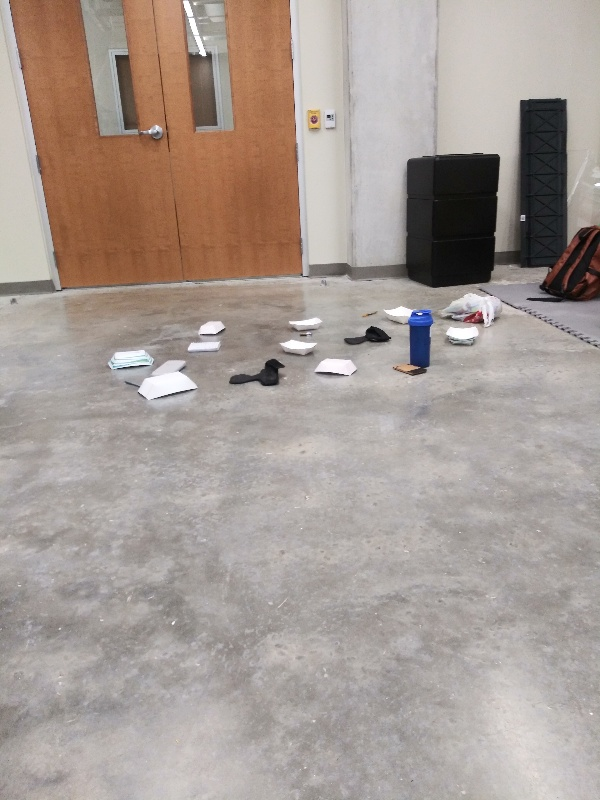plate: (136, 369, 201, 402), (105, 344, 157, 373), (311, 353, 360, 380), (274, 336, 323, 359), (443, 320, 482, 346), (287, 313, 329, 332), (380, 301, 412, 324), (195, 316, 231, 336)
